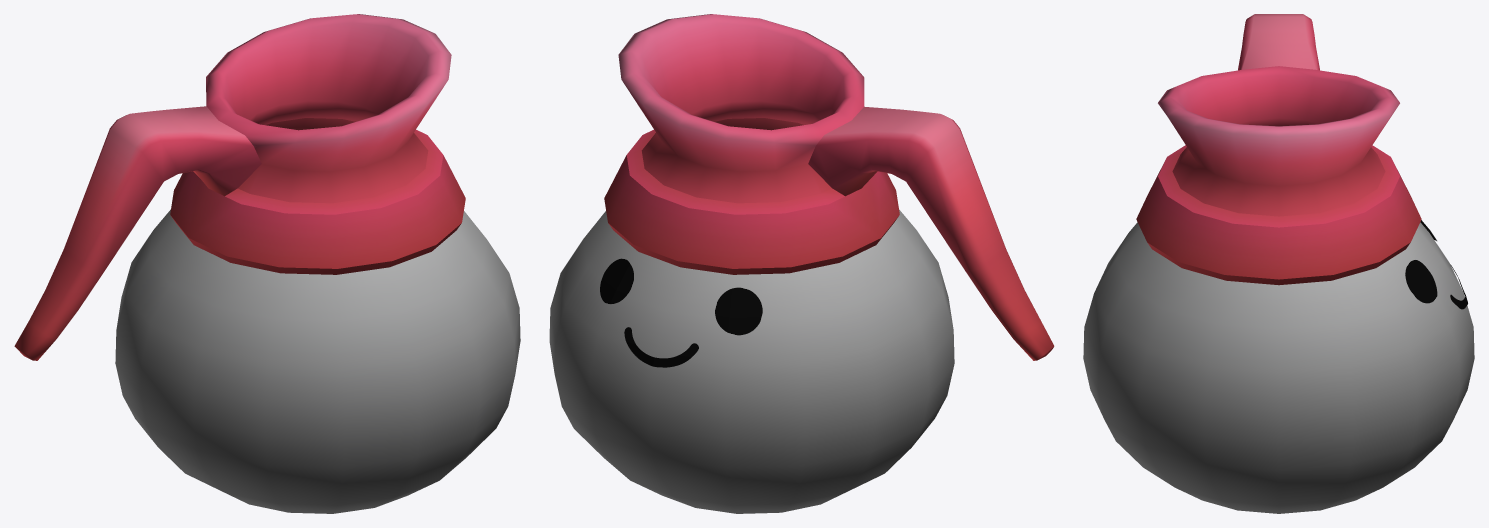
The model's file is coffee_pot_smile.fbx.
3 renders of one model, left to right at view 1: azimuth 30°, elevation 25°; view 2: azimuth 150°, elevation 25°; view 3: azimuth 270°, elevation 25°, orthographic. The views are drawn at different scales.
Visible parts, largest first — view 1: coffee_pot_smile; view 2: coffee_pot_smile; view 3: coffee_pot_smile.
Part boxes in pixels (x1,y1,x2,y2): coffee_pot_smile: (14, 14, 520, 513); coffee_pot_smile: (549, 14, 1054, 513); coffee_pot_smile: (1083, 14, 1474, 513).
Bounding box in the file's own units: 101 × 75.58 × 83.38.
